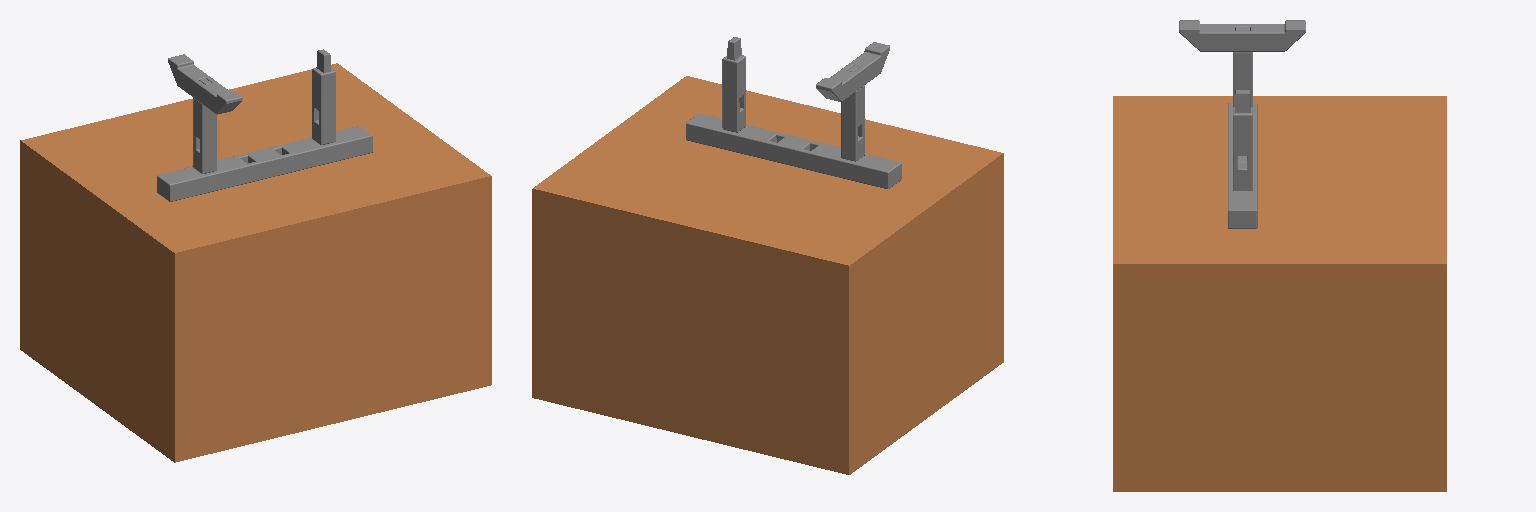
URDF robot description (table_beam_2x_1_scene_0084):
<?xml version="1.0"?>
<robot name="table_beam_2x_1_scene_0084">
  <link name="box">
    <visual>
      <material name="wood"><color rgba="0.82 0.56 0.35 1.0"/></material>
      <origin xyz="0 0 0"/>
      <geometry><box size="0.475 0.4 0.3"/></geometry>
    </visual>
    <collision>
      <origin xyz="0 0 0"/>
      <geometry><box size="0.475 0.4 0.3"/></geometry>
    </collision>
    <inertial>
      <mass value="500"/>
      <friction value="1.0"/>
      <inertia ixx="1000.0" ixy="0.0" ixz="0.0" iyy="1000.0" iyz="0.0" izz="1000.0"/>
    </inertial>
  </link>
  <link name="part_6_canonical">
    <visual>
      <origin xyz="0 0 0" rpy="0 0 0"/>
      <geometry><mesh filename="../../6/6_canonical.obj" scale="1 1 1"/></geometry>
      <material name="placed_0"><color rgba="0.6 0.6 0.6 1.0"/></material>
    </visual>
    <collision>
      <origin xyz="0 0 0" rpy="0 0 0"/>
      <geometry><mesh filename="../../6/6_canonical.obj" scale="1 1 1"/></geometry>
    </collision>
  </link>
  <joint name="part_6_canonical_joint" type="fixed">
    <parent link="box"/>
    <child link="part_6_canonical"/>
    <origin xyz="-0.012773 -0.044622 0.162666" rpy="0.000000 0.000000 0.000000"/>
  </joint>
  <link name="part_2_canonical">
    <visual>
      <origin xyz="0 0 0" rpy="0 0 0"/>
      <geometry><mesh filename="../../2/2_canonical.obj" scale="1 1 1"/></geometry>
      <material name="placed_1"><color rgba="0.6 0.6 0.6 1.0"/></material>
    </visual>
    <collision>
      <origin xyz="0 0 0" rpy="0 0 0"/>
      <geometry><mesh filename="../../2/2_canonical.obj" scale="1 1 1"/></geometry>
    </collision>
  </link>
  <joint name="part_2_canonical_joint" type="fixed">
    <parent link="box"/>
    <child link="part_2_canonical"/>
    <origin xyz="-0.101700 -0.044622 0.225384" rpy="0.000000 -1.570796 0.000000"/>
  </joint>
  <link name="part_0_canonical">
    <visual>
      <origin xyz="0 0 0" rpy="0 0 0"/>
      <geometry><mesh filename="../../0/0_canonical.obj" scale="1 1 1"/></geometry>
      <material name="placed_2"><color rgba="0.6 0.6 0.6 1.0"/></material>
    </visual>
    <collision>
      <origin xyz="0 0 0" rpy="0 0 0"/>
      <geometry><mesh filename="../../0/0_canonical.obj" scale="1 1 1"/></geometry>
    </collision>
  </link>
  <joint name="part_0_canonical_joint" type="fixed">
    <parent link="box"/>
    <child link="part_0_canonical"/>
    <origin xyz="-0.101673 -0.044622 0.292243" rpy="1.570796 0.000000 -1.570796"/>
  </joint>
  <link name="part_3_hull_0">
    <visual>
      <origin xyz="0 0 0" rpy="0 0 0"/>
      <geometry><mesh filename="../../3/coacd/decomp_0.obj" scale="1 1 1"/></geometry>
      <material name="placed_3"><color rgba="0.6 0.6 0.6 1.0"/></material>
    </visual>
    <collision>
      <origin xyz="0 0 0" rpy="0 0 0"/>
      <geometry><mesh filename="../../3/coacd/decomp_0.obj" scale="1 1 1"/></geometry>
    </collision>
  </link>
  <joint name="part_3_hull_0_joint" type="fixed">
    <parent link="box"/>
    <child link="part_3_hull_0"/>
    <origin xyz="0.076154 -0.044622 0.225384" rpy="0.000000 -1.570796 0.000000"/>
  </joint>
  <link name="part_3_hull_1">
    <visual>
      <origin xyz="0 0 0" rpy="0 0 0"/>
      <geometry><mesh filename="../../3/coacd/decomp_1.obj" scale="1 1 1"/></geometry>
      <material name="placed_4"><color rgba="0.6 0.6 0.6 1.0"/></material>
    </visual>
    <collision>
      <origin xyz="0 0 0" rpy="0 0 0"/>
      <geometry><mesh filename="../../3/coacd/decomp_1.obj" scale="1 1 1"/></geometry>
    </collision>
  </link>
  <joint name="part_3_hull_1_joint" type="fixed">
    <parent link="box"/>
    <child link="part_3_hull_1"/>
    <origin xyz="0.076154 -0.044622 0.225384" rpy="0.000000 -1.570796 0.000000"/>
  </joint>
  <link name="part_3_hull_2">
    <visual>
      <origin xyz="0 0 0" rpy="0 0 0"/>
      <geometry><mesh filename="../../3/coacd/decomp_10.obj" scale="1 1 1"/></geometry>
      <material name="placed_5"><color rgba="0.6 0.6 0.6 1.0"/></material>
    </visual>
    <collision>
      <origin xyz="0 0 0" rpy="0 0 0"/>
      <geometry><mesh filename="../../3/coacd/decomp_10.obj" scale="1 1 1"/></geometry>
    </collision>
  </link>
  <joint name="part_3_hull_2_joint" type="fixed">
    <parent link="box"/>
    <child link="part_3_hull_2"/>
    <origin xyz="0.076154 -0.044622 0.225384" rpy="0.000000 -1.570796 0.000000"/>
  </joint>
  <link name="part_3_hull_3">
    <visual>
      <origin xyz="0 0 0" rpy="0 0 0"/>
      <geometry><mesh filename="../../3/coacd/decomp_11.obj" scale="1 1 1"/></geometry>
      <material name="placed_6"><color rgba="0.6 0.6 0.6 1.0"/></material>
    </visual>
    <collision>
      <origin xyz="0 0 0" rpy="0 0 0"/>
      <geometry><mesh filename="../../3/coacd/decomp_11.obj" scale="1 1 1"/></geometry>
    </collision>
  </link>
  <joint name="part_3_hull_3_joint" type="fixed">
    <parent link="box"/>
    <child link="part_3_hull_3"/>
    <origin xyz="0.076154 -0.044622 0.225384" rpy="0.000000 -1.570796 0.000000"/>
  </joint>
  <link name="part_3_hull_4">
    <visual>
      <origin xyz="0 0 0" rpy="0 0 0"/>
      <geometry><mesh filename="../../3/coacd/decomp_12.obj" scale="1 1 1"/></geometry>
      <material name="placed_7"><color rgba="0.6 0.6 0.6 1.0"/></material>
    </visual>
    <collision>
      <origin xyz="0 0 0" rpy="0 0 0"/>
      <geometry><mesh filename="../../3/coacd/decomp_12.obj" scale="1 1 1"/></geometry>
    </collision>
  </link>
  <joint name="part_3_hull_4_joint" type="fixed">
    <parent link="box"/>
    <child link="part_3_hull_4"/>
    <origin xyz="0.076154 -0.044622 0.225384" rpy="0.000000 -1.570796 0.000000"/>
  </joint>
  <link name="part_3_hull_5">
    <visual>
      <origin xyz="0 0 0" rpy="0 0 0"/>
      <geometry><mesh filename="../../3/coacd/decomp_2.obj" scale="1 1 1"/></geometry>
      <material name="placed_8"><color rgba="0.6 0.6 0.6 1.0"/></material>
    </visual>
    <collision>
      <origin xyz="0 0 0" rpy="0 0 0"/>
      <geometry><mesh filename="../../3/coacd/decomp_2.obj" scale="1 1 1"/></geometry>
    </collision>
  </link>
  <joint name="part_3_hull_5_joint" type="fixed">
    <parent link="box"/>
    <child link="part_3_hull_5"/>
    <origin xyz="0.076154 -0.044622 0.225384" rpy="0.000000 -1.570796 0.000000"/>
  </joint>
  <link name="part_3_hull_6">
    <visual>
      <origin xyz="0 0 0" rpy="0 0 0"/>
      <geometry><mesh filename="../../3/coacd/decomp_3.obj" scale="1 1 1"/></geometry>
      <material name="placed_9"><color rgba="0.6 0.6 0.6 1.0"/></material>
    </visual>
    <collision>
      <origin xyz="0 0 0" rpy="0 0 0"/>
      <geometry><mesh filename="../../3/coacd/decomp_3.obj" scale="1 1 1"/></geometry>
    </collision>
  </link>
  <joint name="part_3_hull_6_joint" type="fixed">
    <parent link="box"/>
    <child link="part_3_hull_6"/>
    <origin xyz="0.076154 -0.044622 0.225384" rpy="0.000000 -1.570796 0.000000"/>
  </joint>
  <link name="part_3_hull_7">
    <visual>
      <origin xyz="0 0 0" rpy="0 0 0"/>
      <geometry><mesh filename="../../3/coacd/decomp_4.obj" scale="1 1 1"/></geometry>
      <material name="placed_10"><color rgba="0.6 0.6 0.6 1.0"/></material>
    </visual>
    <collision>
      <origin xyz="0 0 0" rpy="0 0 0"/>
      <geometry><mesh filename="../../3/coacd/decomp_4.obj" scale="1 1 1"/></geometry>
    </collision>
  </link>
  <joint name="part_3_hull_7_joint" type="fixed">
    <parent link="box"/>
    <child link="part_3_hull_7"/>
    <origin xyz="0.076154 -0.044622 0.225384" rpy="0.000000 -1.570796 0.000000"/>
  </joint>
  <link name="part_3_hull_8">
    <visual>
      <origin xyz="0 0 0" rpy="0 0 0"/>
      <geometry><mesh filename="../../3/coacd/decomp_5.obj" scale="1 1 1"/></geometry>
      <material name="placed_11"><color rgba="0.6 0.6 0.6 1.0"/></material>
    </visual>
    <collision>
      <origin xyz="0 0 0" rpy="0 0 0"/>
      <geometry><mesh filename="../../3/coacd/decomp_5.obj" scale="1 1 1"/></geometry>
    </collision>
  </link>
  <joint name="part_3_hull_8_joint" type="fixed">
    <parent link="box"/>
    <child link="part_3_hull_8"/>
    <origin xyz="0.076154 -0.044622 0.225384" rpy="0.000000 -1.570796 0.000000"/>
  </joint>
  <link name="part_3_hull_9">
    <visual>
      <origin xyz="0 0 0" rpy="0 0 0"/>
      <geometry><mesh filename="../../3/coacd/decomp_6.obj" scale="1 1 1"/></geometry>
      <material name="placed_12"><color rgba="0.6 0.6 0.6 1.0"/></material>
    </visual>
    <collision>
      <origin xyz="0 0 0" rpy="0 0 0"/>
      <geometry><mesh filename="../../3/coacd/decomp_6.obj" scale="1 1 1"/></geometry>
    </collision>
  </link>
  <joint name="part_3_hull_9_joint" type="fixed">
    <parent link="box"/>
    <child link="part_3_hull_9"/>
    <origin xyz="0.076154 -0.044622 0.225384" rpy="0.000000 -1.570796 0.000000"/>
  </joint>
  <link name="part_3_hull_10">
    <visual>
      <origin xyz="0 0 0" rpy="0 0 0"/>
      <geometry><mesh filename="../../3/coacd/decomp_7.obj" scale="1 1 1"/></geometry>
      <material name="placed_13"><color rgba="0.6 0.6 0.6 1.0"/></material>
    </visual>
    <collision>
      <origin xyz="0 0 0" rpy="0 0 0"/>
      <geometry><mesh filename="../../3/coacd/decomp_7.obj" scale="1 1 1"/></geometry>
    </collision>
  </link>
  <joint name="part_3_hull_10_joint" type="fixed">
    <parent link="box"/>
    <child link="part_3_hull_10"/>
    <origin xyz="0.076154 -0.044622 0.225384" rpy="0.000000 -1.570796 0.000000"/>
  </joint>
  <link name="part_3_hull_11">
    <visual>
      <origin xyz="0 0 0" rpy="0 0 0"/>
      <geometry><mesh filename="../../3/coacd/decomp_8.obj" scale="1 1 1"/></geometry>
      <material name="placed_14"><color rgba="0.6 0.6 0.6 1.0"/></material>
    </visual>
    <collision>
      <origin xyz="0 0 0" rpy="0 0 0"/>
      <geometry><mesh filename="../../3/coacd/decomp_8.obj" scale="1 1 1"/></geometry>
    </collision>
  </link>
  <joint name="part_3_hull_11_joint" type="fixed">
    <parent link="box"/>
    <child link="part_3_hull_11"/>
    <origin xyz="0.076154 -0.044622 0.225384" rpy="0.000000 -1.570796 0.000000"/>
  </joint>
  <link name="part_3_hull_12">
    <visual>
      <origin xyz="0 0 0" rpy="0 0 0"/>
      <geometry><mesh filename="../../3/coacd/decomp_9.obj" scale="1 1 1"/></geometry>
      <material name="placed_15"><color rgba="0.6 0.6 0.6 1.0"/></material>
    </visual>
    <collision>
      <origin xyz="0 0 0" rpy="0 0 0"/>
      <geometry><mesh filename="../../3/coacd/decomp_9.obj" scale="1 1 1"/></geometry>
    </collision>
  </link>
  <joint name="part_3_hull_12_joint" type="fixed">
    <parent link="box"/>
    <child link="part_3_hull_12"/>
    <origin xyz="0.076154 -0.044622 0.225384" rpy="0.000000 -1.570796 0.000000"/>
  </joint>
</robot>

--- What the picture shows (computed from the rendered views, not written in the file) ---
Views: 3 orthographic renders of the robot side by side, from view 1: azimuth 30°, elevation 25°; view 2: azimuth 150°, elevation 25°; view 3: azimuth 270°, elevation 25°.
Robot: table_beam_2x_1_scene_0084 — 17 links, 16 joints (16 fixed); root link box; default pose: all joints at 0.
Visible links, largest first — view 1: box, part_6_canonical, part_0_canonical, part_2_canonical; view 2: box, part_6_canonical, part_0_canonical, part_2_canonical, part_3_hull_11; view 3: box, part_0_canonical, part_6_canonical, part_2_canonical, part_3_hull_0.
Boxes of the visible links, <box> form: box: <box>20,63,491,462</box>; part_6_canonical: <box>157,126,372,201</box>; part_0_canonical: <box>168,54,242,114</box>; part_2_canonical: <box>193,78,216,173</box>; box: <box>532,76,1003,474</box>; part_6_canonical: <box>686,113,901,188</box>; part_0_canonical: <box>816,42,889,101</box>; part_2_canonical: <box>841,66,864,161</box>; part_3_hull_11: <box>726,59,733,131</box>; box: <box>1113,96,1446,491</box>; part_0_canonical: <box>1179,20,1305,51</box>; part_6_canonical: <box>1228,103,1257,228</box>; part_2_canonical: <box>1233,27,1252,106</box>; part_3_hull_0: <box>1233,113,1252,155</box>.
Size in the robot's own frame: 0.475 by 0.4 by 0.4575 metres.
Meshes: 16 distinct files referenced, 16 mesh visuals loaded (16 OBJ).
